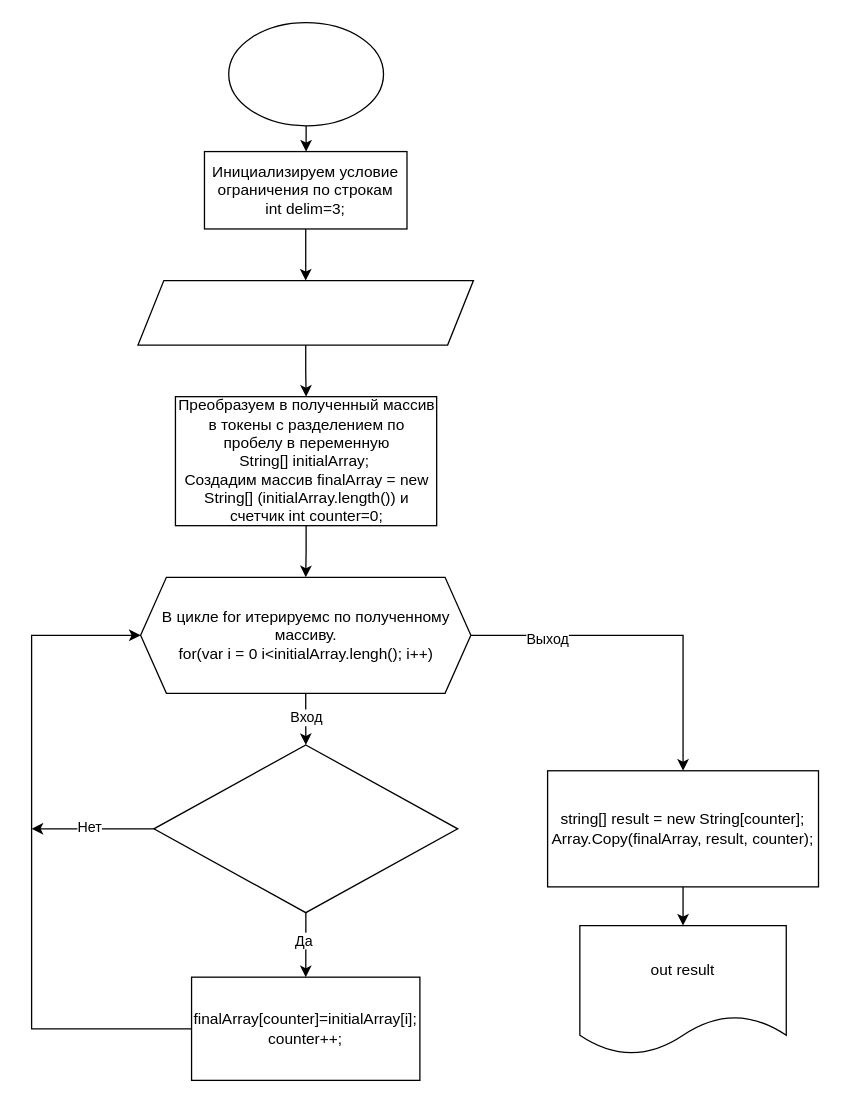
Some shapes in this 841 by 1103 pixel diagram are drawn without their labels. The centre of each missing label's shape, as x and y in pixels:
"if(initalArray[i]<=delim)" goes at point 305,828.
"Ввод слов строк через пробел. Записываем в переменную initialString" goes at point 305,312.
"Начало" goes at point 305,73.
